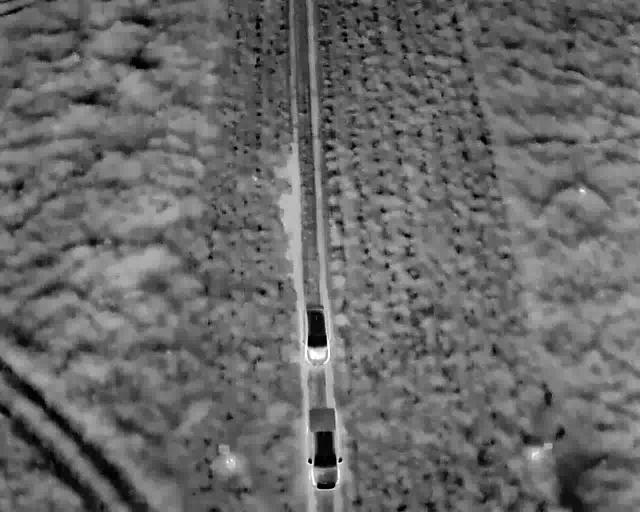car: (302, 405, 344, 491), (300, 302, 332, 368)
